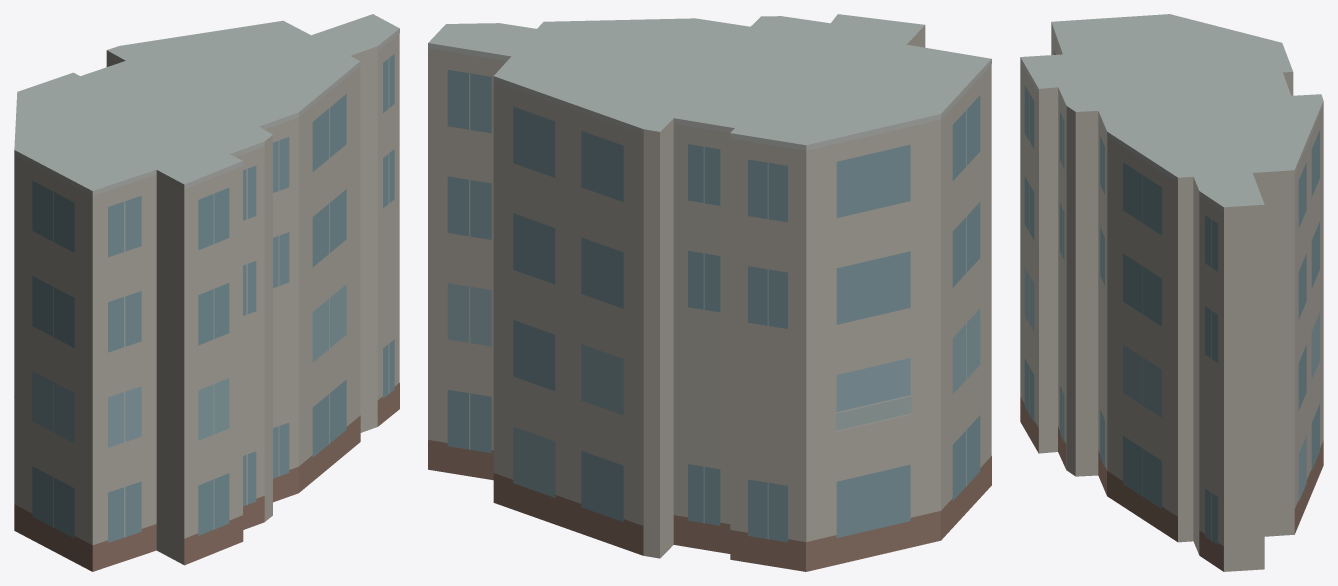
The model's file is survey-upis-32619382.glb.
The picture shows the model from 3 angles, left to right: view 1: azimuth 30°, elevation 25°; view 2: azimuth 150°, elevation 25°; view 3: azimuth 270°, elevation 25°; orthographic projection. The views are drawn at different scales.
Parts seen in each view (by area): view 1: survey-upis-32619382.tmp; view 2: survey-upis-32619382.tmp; view 3: survey-upis-32619382.tmp.
Boxes of the visible parts, left/top/right/bottom form: survey-upis-32619382.tmp: left=14, top=14, right=399, bottom=571; survey-upis-32619382.tmp: left=428, top=14, right=991, bottom=571; survey-upis-32619382.tmp: left=1020, top=14, right=1323, bottom=571.
Size of the model in its own units: 21.04 by 18.5 by 13.96.
